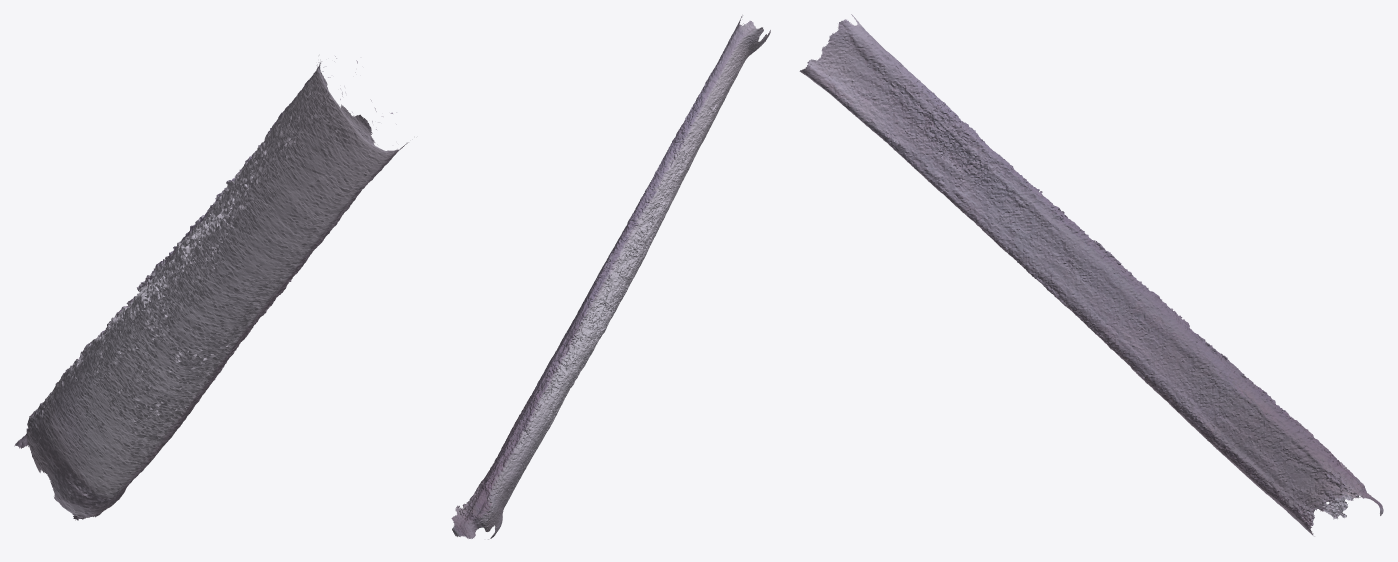
The model's file is link_3_support_rgb.gltf.
The picture shows the model from 3 angles, left to right: view 1: azimuth 30°, elevation 25°; view 2: azimuth 150°, elevation 25°; view 3: azimuth 270°, elevation 25°; orthographic projection. The views are drawn at different scales.
Visible parts, largest first — view 1: watertight_raw_mesh_multiview_rgb.ply; view 2: watertight_raw_mesh_multiview_rgb.ply; view 3: watertight_raw_mesh_multiview_rgb.ply.
Boxes of the visible parts, box(x1,y1,x2,y2) form: watertight_raw_mesh_multiview_rgb.ply: box(14, 56, 408, 520); watertight_raw_mesh_multiview_rgb.ply: box(451, 15, 770, 539); watertight_raw_mesh_multiview_rgb.ply: box(799, 14, 1383, 536).
Size of the model in its own units: 0.0658 by 0.2543 by 0.2761.
